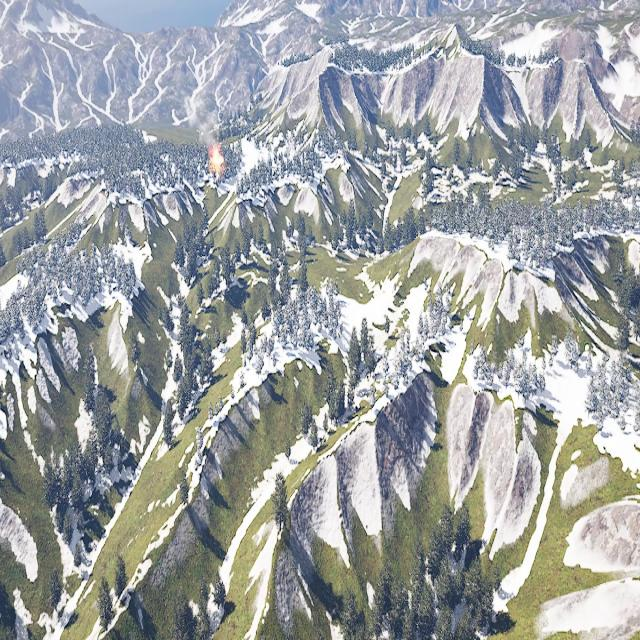fire: (210, 145, 223, 170)
smoke: (192, 109, 220, 145)
